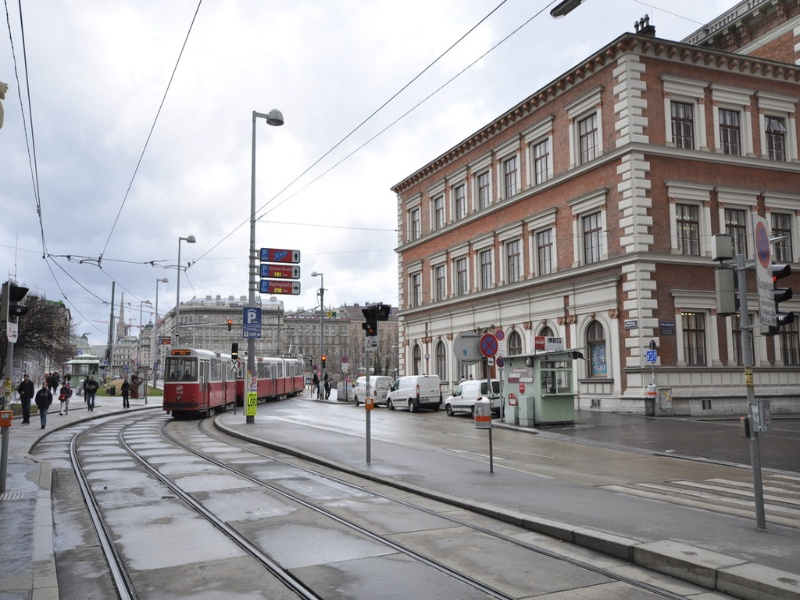parking: (245, 309, 257, 324)
